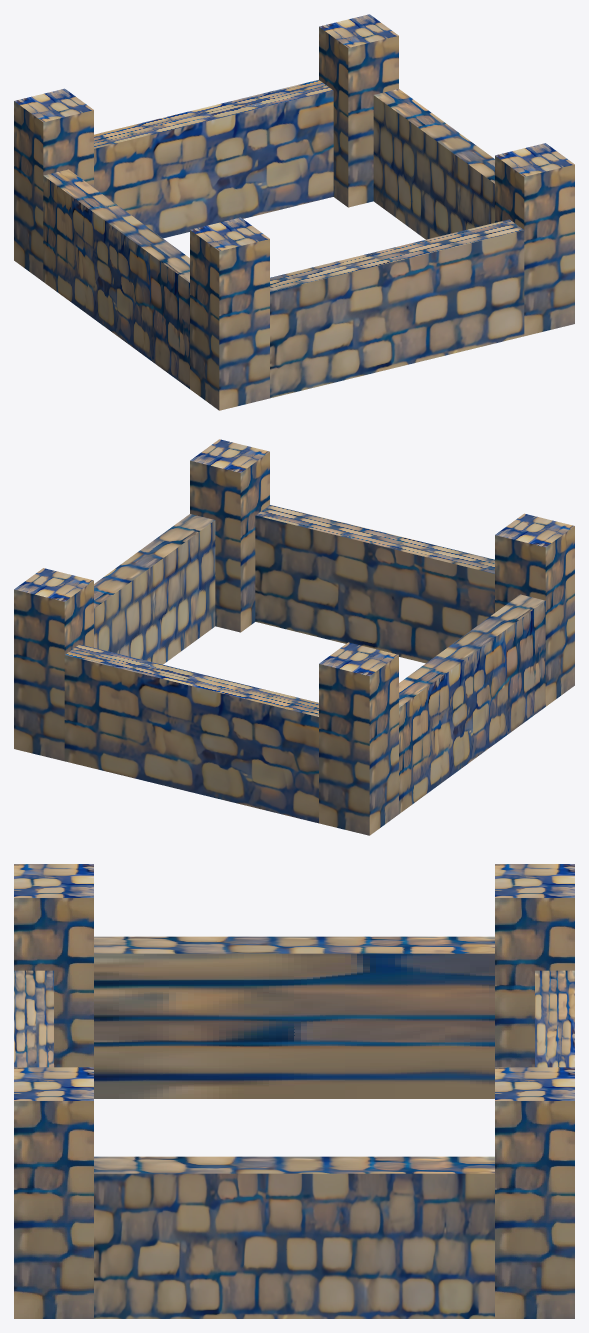
Rendered from basebb.gltf.
3 renders of one model, top to bottom at view 1: azimuth 30°, elevation 25°; view 2: azimuth 150°, elevation 25°; view 3: azimuth 270°, elevation 25°, orthographic. The views are drawn at different scales.
Visible parts, largest first — view 1: cube (×8); view 2: cube (×8); view 3: cube (×8).
Boxes of the visible parts, left/top/right/bottom form: cube (×8): left=14, top=14, right=574, bottom=410; cube (×8): left=14, top=439, right=574, bottom=835; cube (×8): left=14, top=864, right=574, bottom=1318.
Bounding box in the file's own units: 0.875 × 0.375 × 0.875.
1 material, 1 textured.
